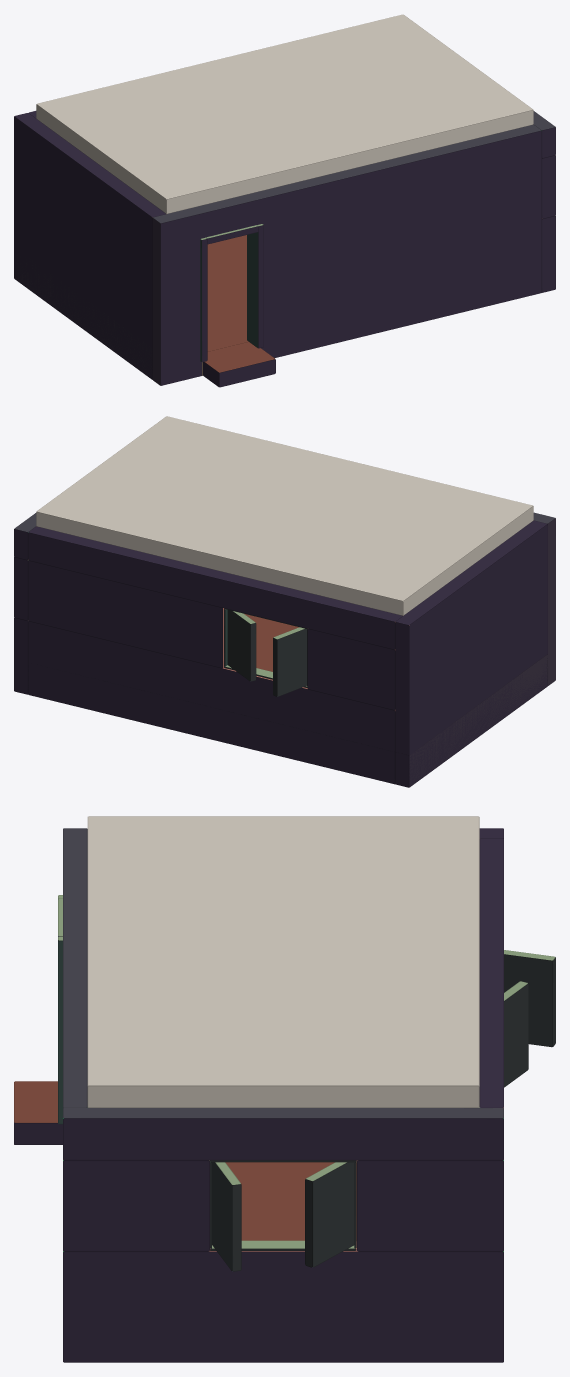
Rendered from Bigroom.fbx.
The picture shows the model from 3 angles, top to bottom: view 1: azimuth 30°, elevation 25°; view 2: azimuth 150°, elevation 25°; view 3: azimuth 270°, elevation 25°; orthographic projection. The views are drawn at different scales.
Parts seen in each view (by area): view 1: wall behind, cuboid_4, wall behind_4, cuboid, frames, cuboid_1, wall behind_3, wall behind_6, wall behind_7, wall behind_1; view 2: cuboid_4, wall behind_9, wall behind_4, wall behind_5, wall behind_10, wall behind_2, wall behind_11, wall behind_3, cuboid_5, cuboid_6, wall behind, cuboid (+4 smaller); view 3: cuboid_4, wall behind_6, wall behind_1, wall behind_7, wall behind_8, wall behind, wall behind_5, cuboid, cuboid_2, cuboid_5, cuboid_1, cuboid_3 (+2 smaller).
Boxes of the visible parts, x1=… form: wall behind: x1=152, y1=124, x2=541, y2=385; cuboid_4: x1=36, y1=14, x2=533, y2=213; wall behind_4: x1=14, y1=113, x2=165, y2=379; cuboid: x1=207, y1=235, x2=248, y2=351; frames: x1=200, y1=224, x2=263, y2=362; cuboid_1: x1=203, y1=342, x2=275, y2=387; wall behind_3: x1=14, y1=255, x2=152, y2=378; wall behind_6: x1=541, y1=216, x2=555, y2=292; wall behind_7: x1=542, y1=155, x2=555, y2=218; wall behind_1: x1=533, y1=111, x2=555, y2=158; cuboid_4: x1=36, y1=416, x2=533, y2=615; wall behind_9: x1=28, y1=621, x2=395, y2=784; wall behind_4: x1=395, y1=520, x2=547, y2=787; wall behind_5: x1=28, y1=526, x2=402, y2=649; wall behind_10: x1=28, y1=560, x2=225, y2=668; wall behind_2: x1=28, y1=663, x2=395, y2=783; wall behind_11: x1=307, y1=628, x2=395, y2=710; wall behind_3: x1=395, y1=654, x2=547, y2=787; cuboid_5: x1=273, y1=627, x2=307, y2=696; cuboid_6: x1=227, y1=610, x2=256, y2=681; wall behind: x1=533, y1=512, x2=555, y2=685; cuboid: x1=244, y1=613, x2=298, y2=671; cuboid_4: x1=87, y1=816, x2=479, y2=1107; wall behind_6: x1=63, y1=1241, x2=503, y2=1362; wall behind_1: x1=63, y1=1108, x2=503, y2=1160; wall behind_7: x1=63, y1=1160, x2=209, y2=1251; wall behind_8: x1=357, y1=1160, x2=503, y2=1251; wall behind: x1=63, y1=828, x2=87, y2=1251; wall behind_5: x1=479, y1=838, x2=503, y2=1118; cuboid: x1=225, y1=1160, x2=356, y2=1240; cuboid_2: x1=305, y1=1162, x2=356, y2=1267; cuboid_5: x1=504, y1=950, x2=555, y2=1047; cuboid_1: x1=14, y1=1081, x2=62, y2=1144; cuboid_3: x1=211, y1=1162, x2=241, y2=1271.
Bounding box in the file's own units: 1887 × 750 × 1382.
Materials: 4 (4 with a texture image).
